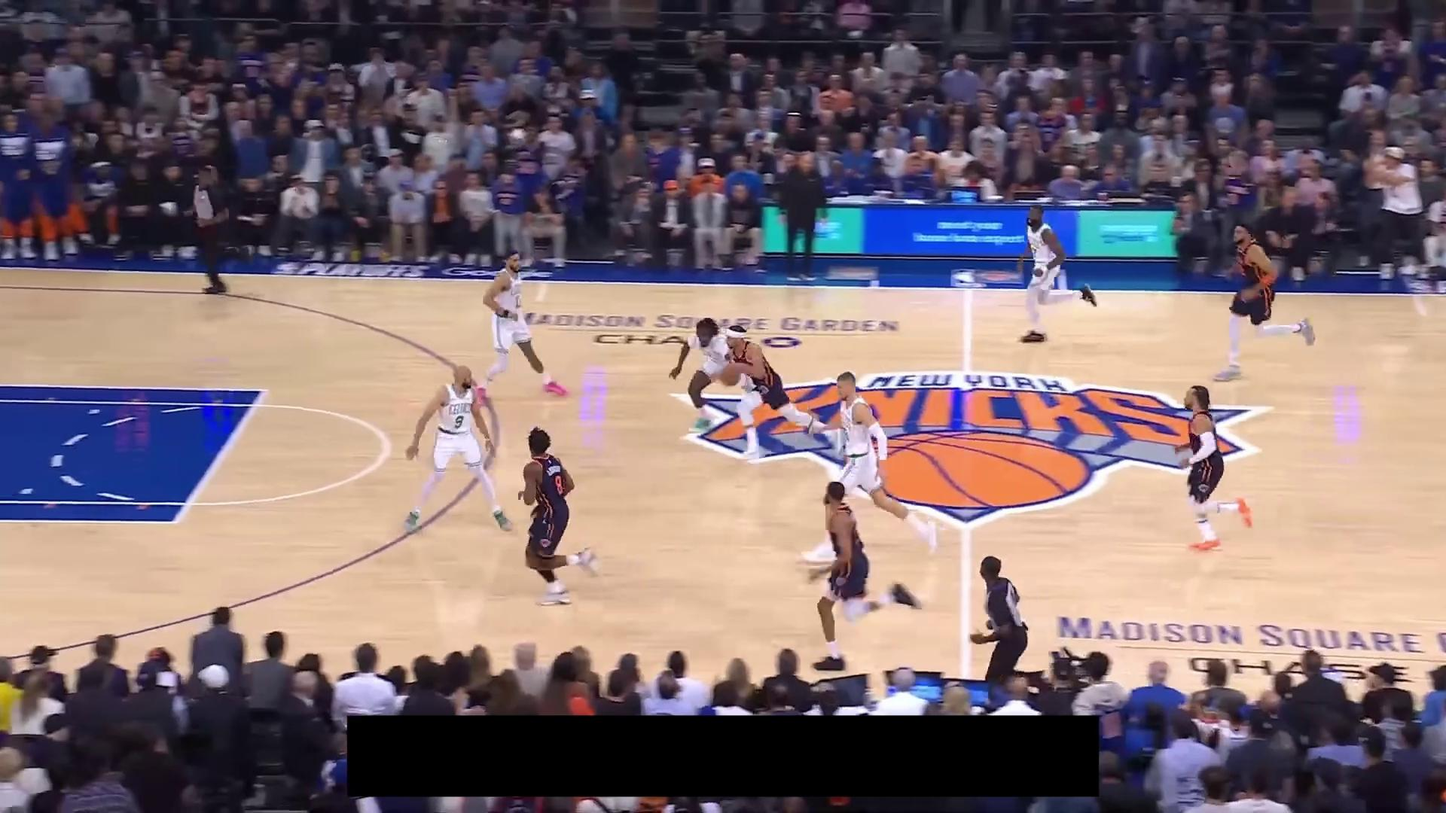ball: (717, 364, 744, 387)
number: (555, 475, 564, 496), (454, 415, 465, 429)
player: (800, 372, 940, 554), (814, 479, 921, 669), (400, 364, 514, 532), (1212, 224, 1316, 381), (517, 421, 600, 606), (474, 249, 568, 399), (1173, 382, 1254, 554), (1012, 201, 1100, 346), (670, 314, 749, 428)
player-in-possession: (720, 325, 820, 462)
referee: (965, 555, 1035, 687), (181, 163, 235, 296)
